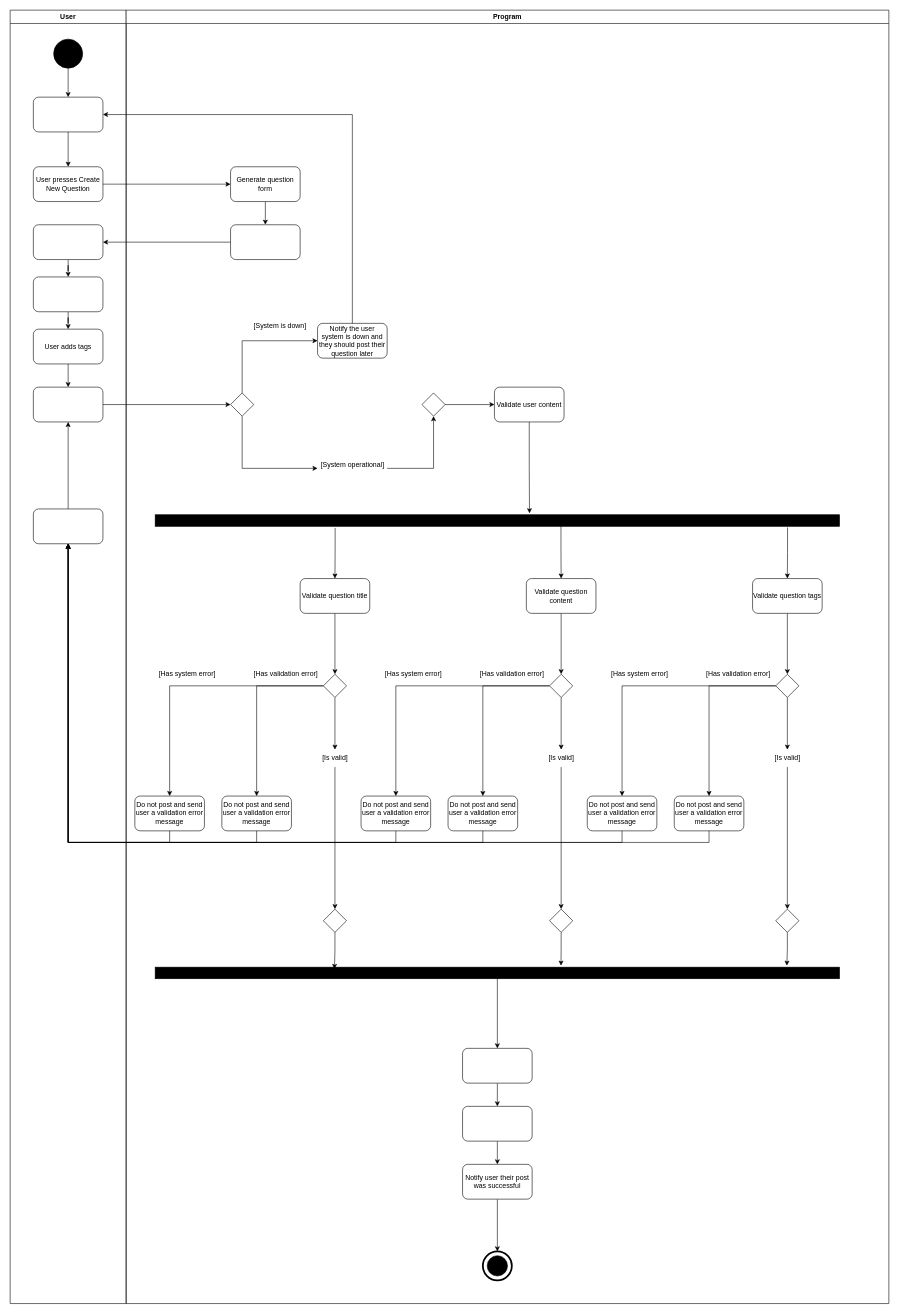
Image size: 899x1314. Some labels were removed from this diagram. Each missing label, with the box of its shape:
Display question form: (230, 224, 300, 260)
Set post to visible on the CodeQA site: (462, 1106, 532, 1141)
User fixes post error: (33, 508, 103, 544)
User navigates to Post Question tab: (33, 97, 103, 132)
User presses the Post Question button: (33, 387, 103, 422)
User writes question content: (33, 276, 103, 312)
User writes title: (33, 224, 103, 260)
Write post to database: (462, 1048, 532, 1083)
